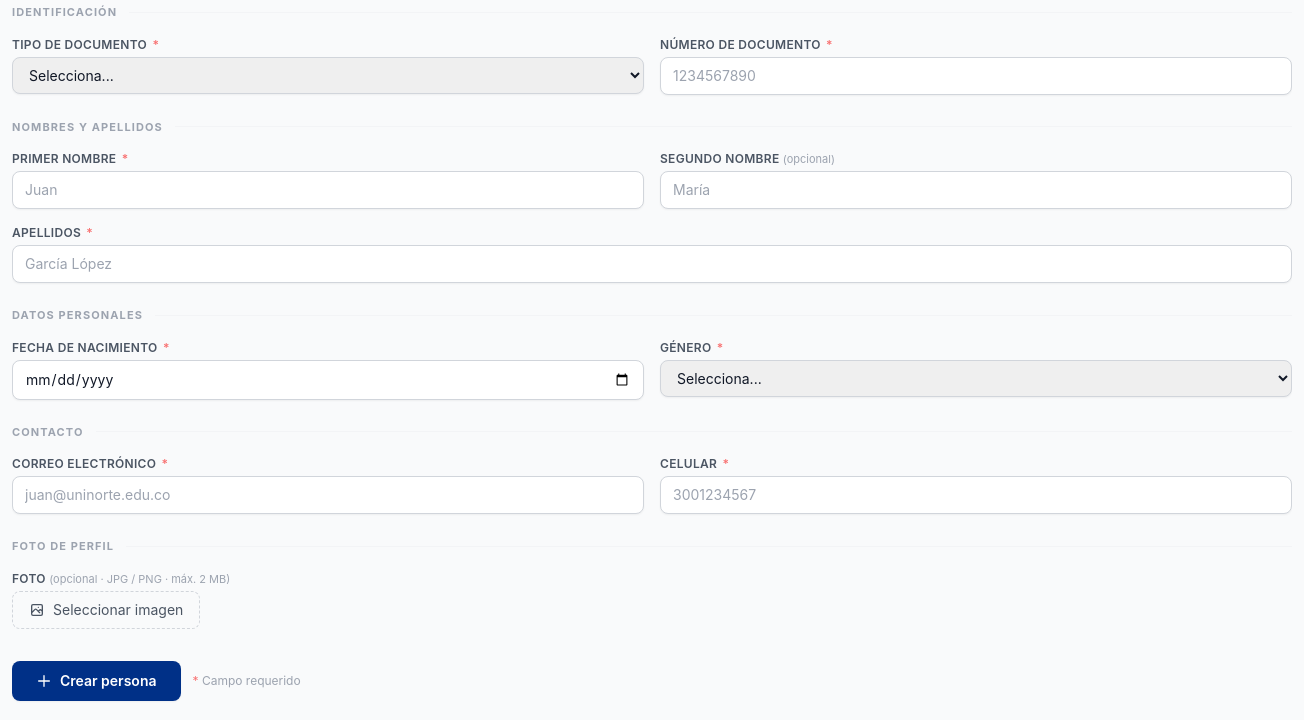
Test: spec 010 — PersonaForm › valida primer_nombre solo letras, máx 30
Type "123" into the field labelled "Primer nombre *" at (328, 190), box [12,171,644,209]
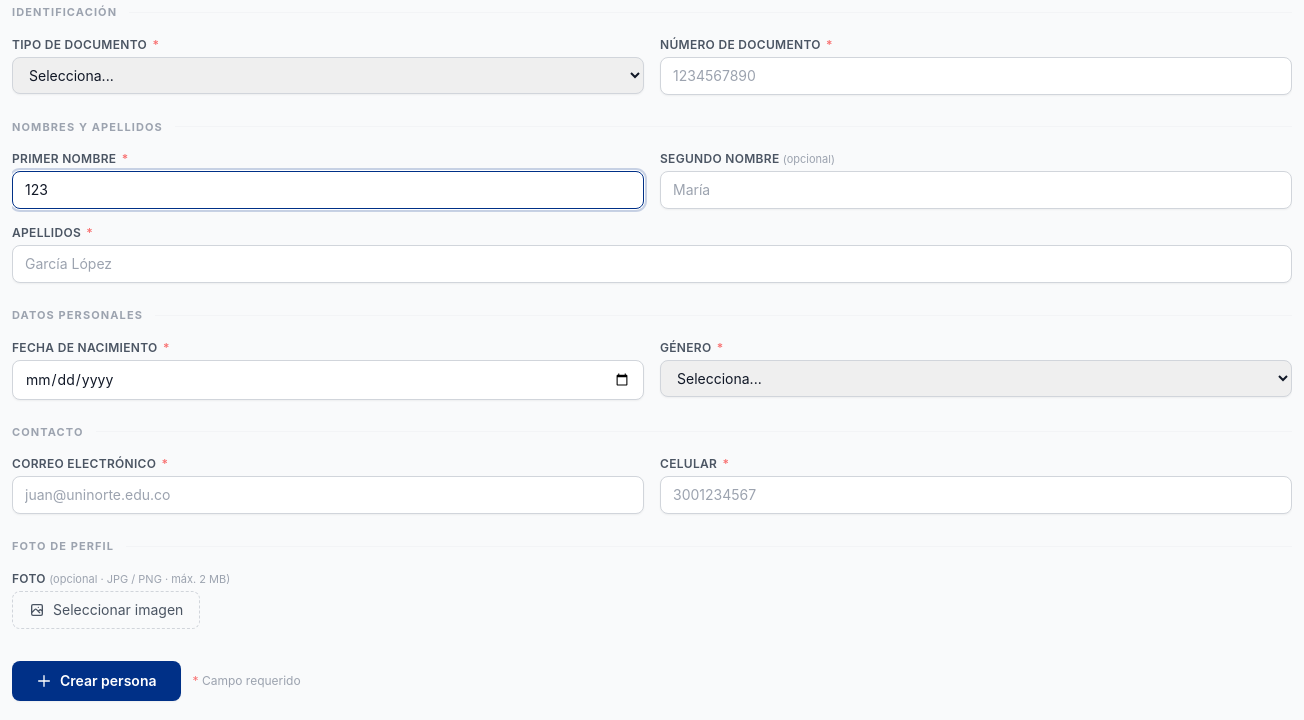
Click the button "Crear persona" at (96, 680), box [12,660,180,700]
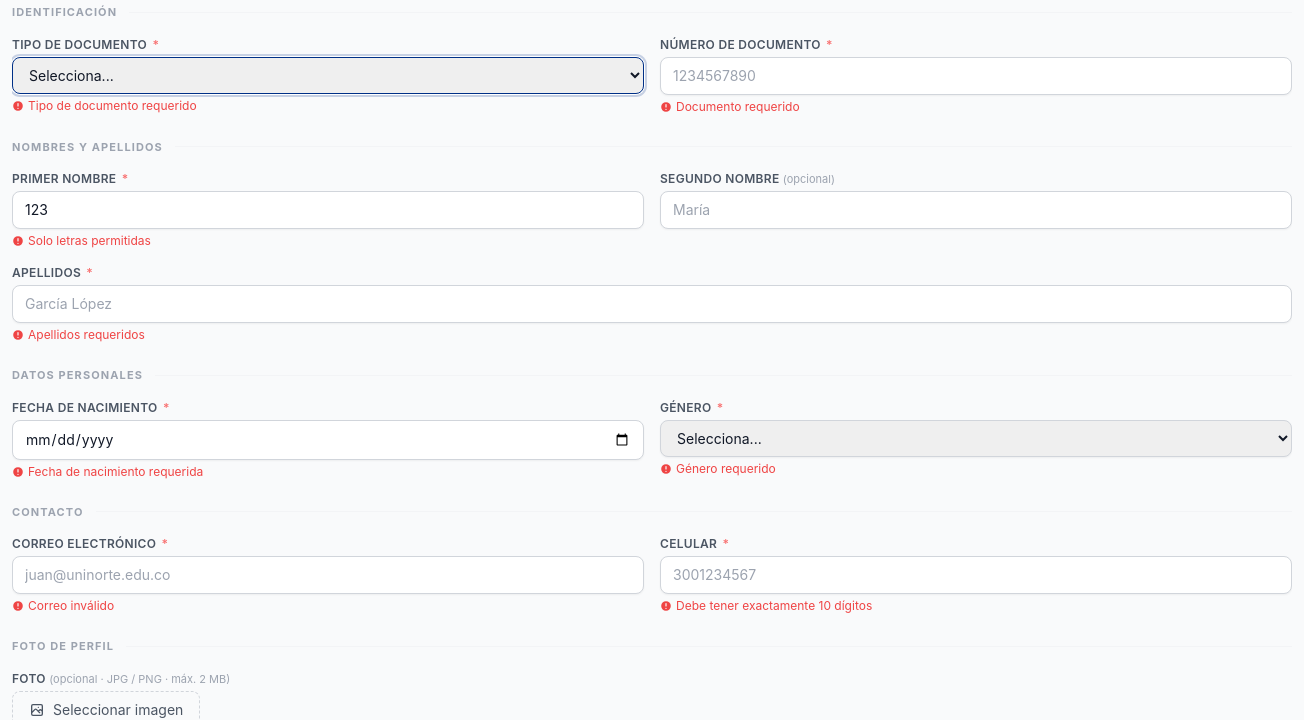
Expected: the text "Solo letras permitidas" is shown, [12,233,151,248]
